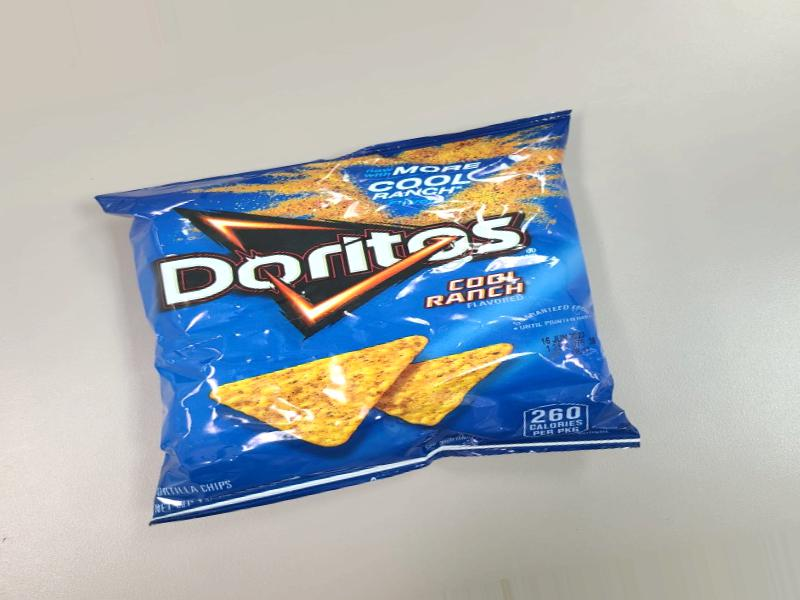doritos: (147, 118, 633, 526)
